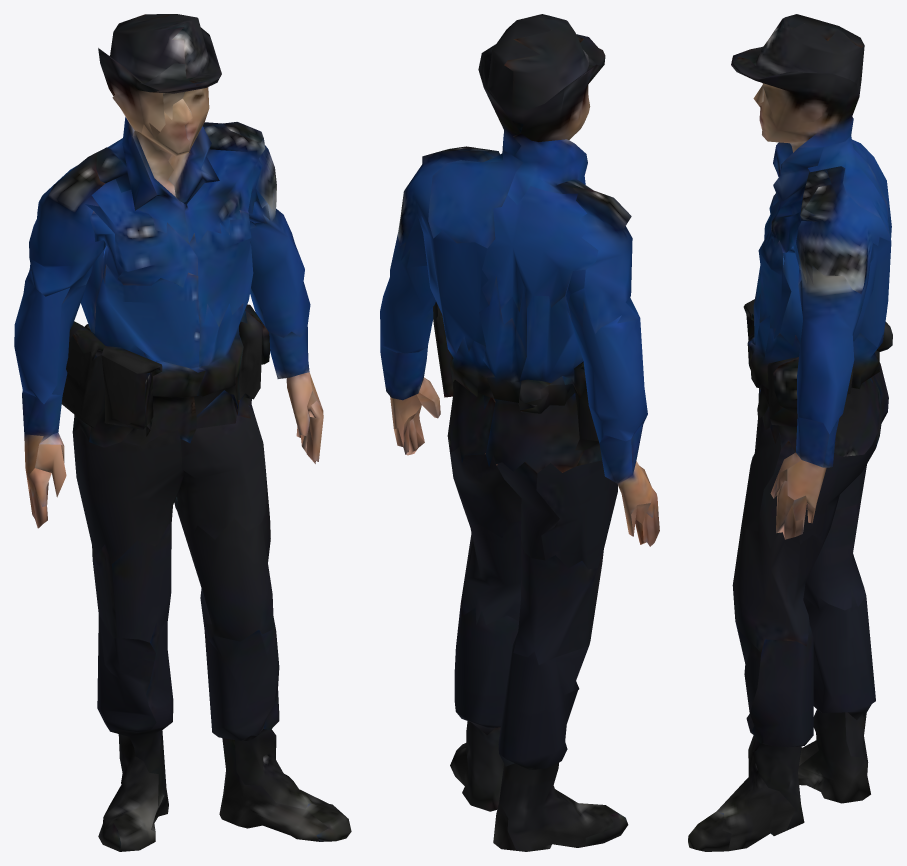
The model's file is polwan_china_idle_lod2.glb.
3 renders of one model, left to right at view 1: azimuth 30°, elevation 25°; view 2: azimuth 150°, elevation 25°; view 3: azimuth 270°, elevation 25°, orthographic. The views are drawn at different scales.
Parts seen in each view (by area): view 1: tripo_node_e47f3cb7-5733-46bb-8eb3-97cf68cdc512; view 2: tripo_node_e47f3cb7-5733-46bb-8eb3-97cf68cdc512; view 3: tripo_node_e47f3cb7-5733-46bb-8eb3-97cf68cdc512.
Boxes of the visible parts, x1,y1,x2,y2 form: tripo_node_e47f3cb7-5733-46bb-8eb3-97cf68cdc512: (14, 14, 351, 851); tripo_node_e47f3cb7-5733-46bb-8eb3-97cf68cdc512: (380, 14, 659, 851); tripo_node_e47f3cb7-5733-46bb-8eb3-97cf68cdc512: (688, 14, 892, 851).
Bounding box in the file's own units: 35.73 × 99.8 × 24.02.
1 material, 1 textured.
